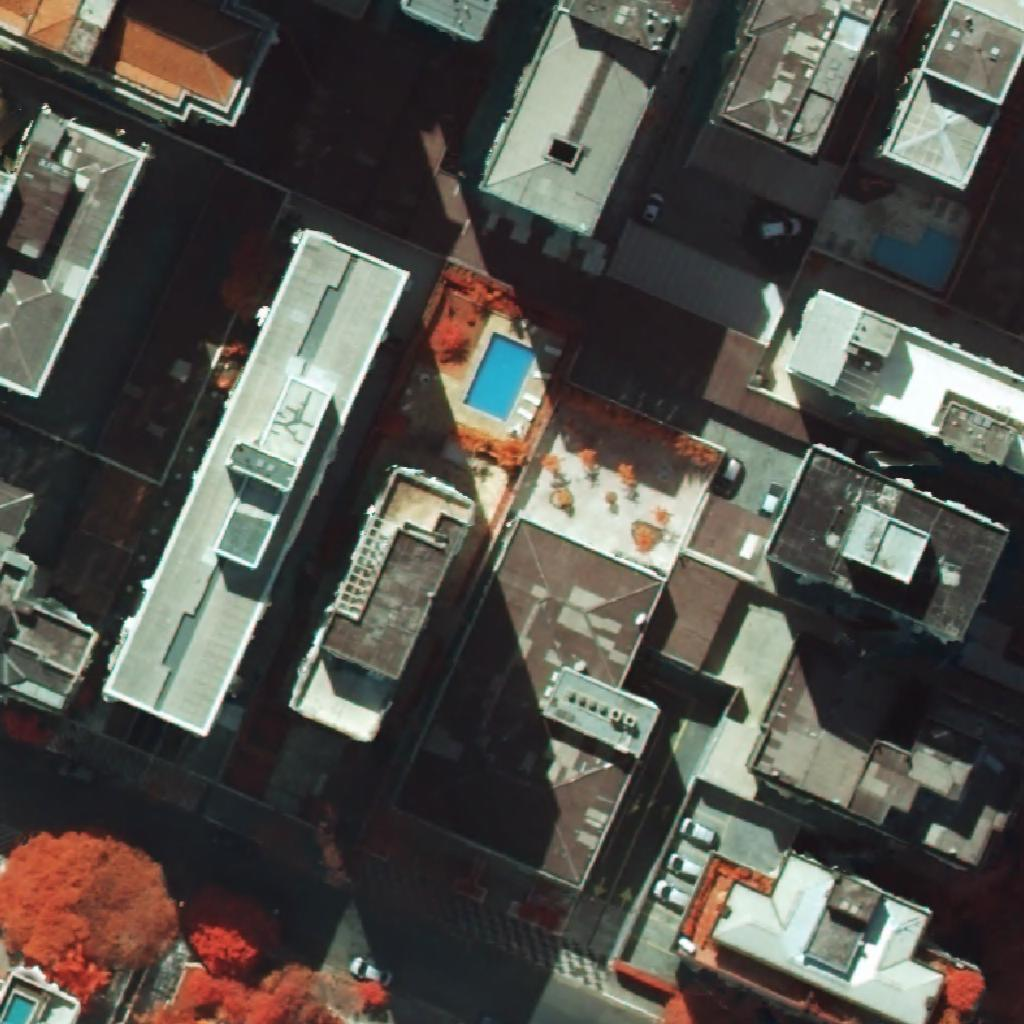pool: (464, 333, 537, 422), (872, 228, 959, 288), (1, 995, 35, 1024)
